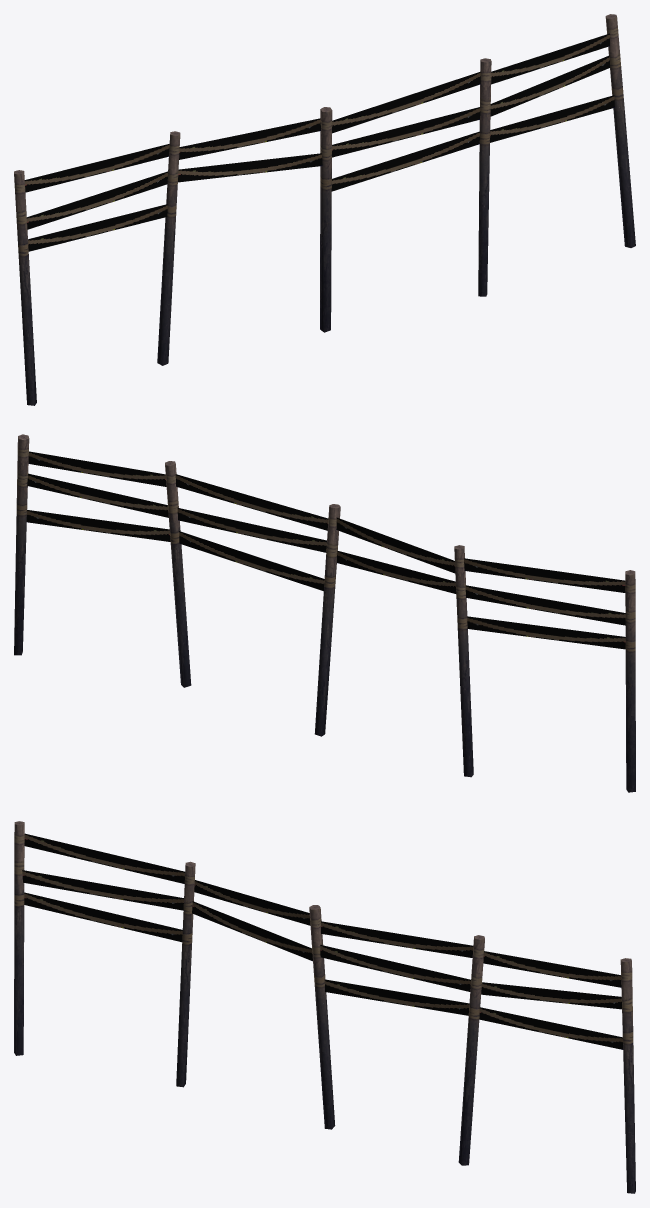
The model's file is objects_un_a_w23fence01_l2.gltf.
The picture shows the model from 3 angles, top to bottom: view 1: azimuth 30°, elevation 25°; view 2: azimuth 150°, elevation 25°; view 3: azimuth 330°, elevation 25°; orthographic projection.
Visible parts, largest first — view 1: um_objects_un_a_w23fence01_l2_model_lod0Shape:objects_un_a_w; view 2: um_objects_un_a_w23fence01_l2_model_lod0Shape:objects_un_a_w; view 3: um_objects_un_a_w23fence01_l2_model_lod0Shape:objects_un_a_w.
Boxes of the visible parts, left/top/right/bottom form: um_objects_un_a_w23fence01_l2_model_lod0Shape:objects_un_a_w: left=14, top=14, right=635, bottom=405; um_objects_un_a_w23fence01_l2_model_lod0Shape:objects_un_a_w: left=14, top=434, right=635, bottom=792; um_objects_un_a_w23fence01_l2_model_lod0Shape:objects_un_a_w: left=14, top=821, right=635, bottom=1193.
Size of what is drawn, in the model's own units: 7.41 by 2.69 by 0.5096.
Materials: 2 (1 with a texture image).
